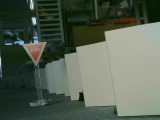stop: (22, 42, 46, 66)
